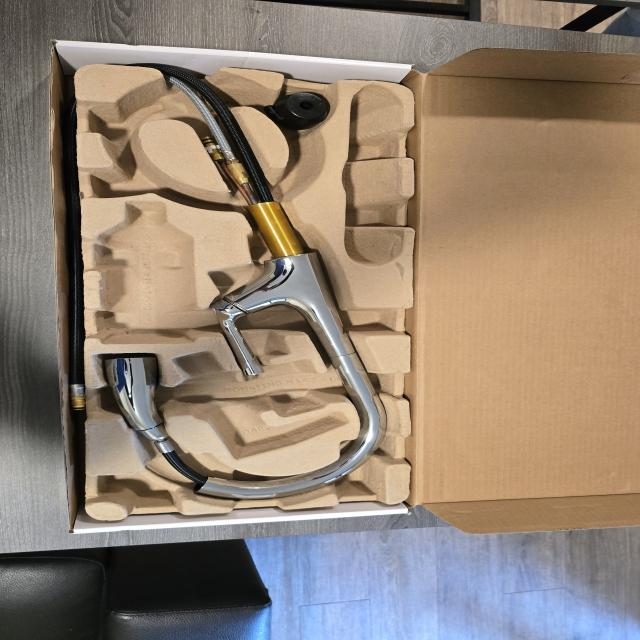1: (105, 66, 386, 500)
2m: (170, 353, 347, 460)
3m: (99, 203, 196, 343)
4m: (342, 84, 402, 265)
5: (259, 93, 330, 131)
6m: (91, 96, 168, 136)
7m: (92, 154, 164, 199)
